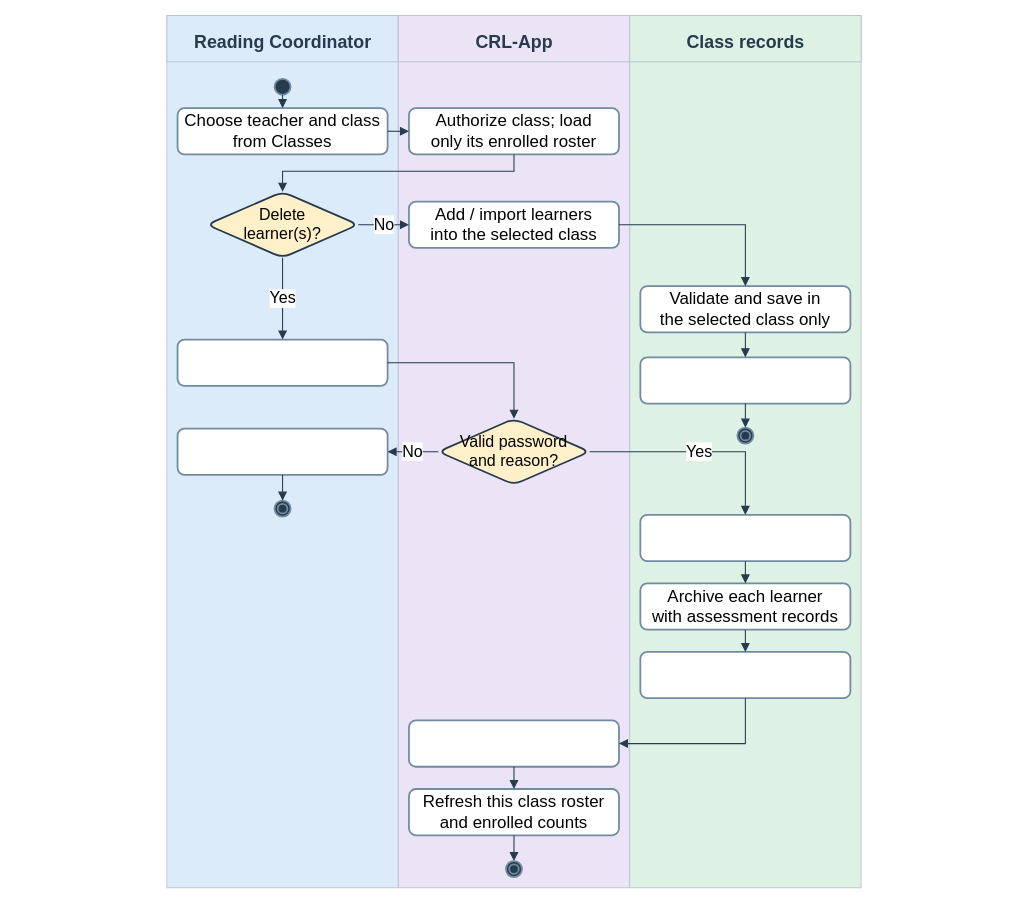
The diagram is 1027 pixels wide and 903 high, and some of its shapes have lost their labels. Here are the shapes that lost their labels. From the top down, the centre of each, then its label:
At [282,362]: "Enter account password; explain deletion reason".
At [745,380]: "Include unassessed learners with no results".
At [282,451]: "Explain mismatch; keep records unchanged".
At [745,538]: "Check ownership and active assessment".
At [745,675]: "Delete enrollment and dependent results".
At [513,743]: "Clear stale learner work; keep other classes".
